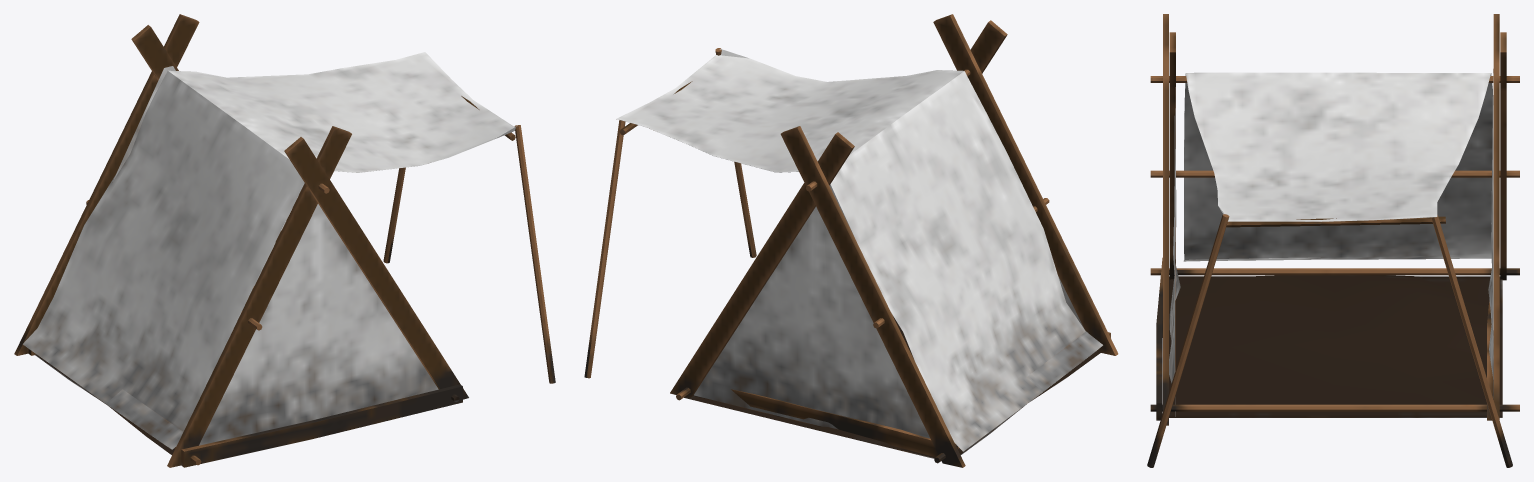
File: stan_kelt.glb
3 views of the same model, side by side, from view 1: azimuth 30°, elevation 25°; view 2: azimuth 150°, elevation 25°; view 3: azimuth 270°, elevation 25° (orthographic). The views are drawn at different scales.
Parts seen in each view (by area): view 1: stan_kelt; view 2: stan_kelt; view 3: stan_kelt.
Part boxes in pixels (box(x1,y1,x2,y2)): stan_kelt: box(14, 14, 555, 467); stan_kelt: box(584, 14, 1118, 467); stan_kelt: box(1147, 14, 1519, 467).
Size of the model in its own units: 5.07 by 3.84 by 3.99.
1 material, 1 textured.
